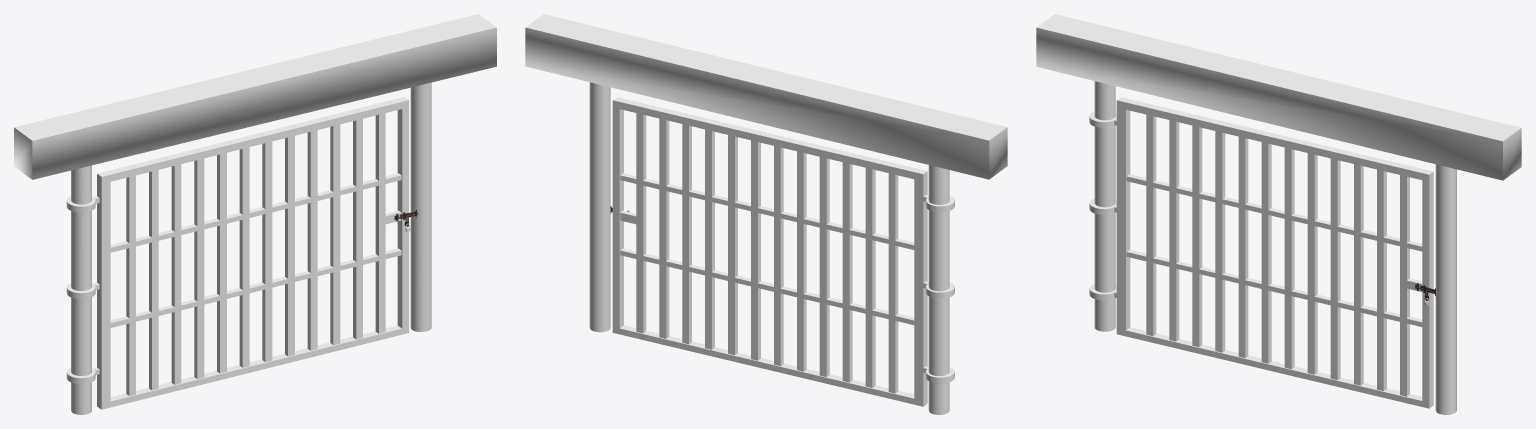
The model's file is REJAS.fbx.
3 views of the same model, side by side, from view 1: azimuth 30°, elevation 25°; view 2: azimuth 150°, elevation 25°; view 3: azimuth 330°, elevation 25° (orthographic).
Visible parts, largest first — view 1: REJASINUVSS, MARCOSINUVSSS; view 2: REJASINUVSS, MARCOSINUVSSS; view 3: REJASINUVSS, MARCOSINUVSSS.
Boxes of the visible parts, <box> form: REJASINUVSS: <box>66,97,408,409</box>; MARCOSINUVSSS: <box>14,14,496,414</box>; REJASINUVSS: <box>612,97,954,406</box>; MARCOSINUVSSS: <box>525,14,1007,414</box>; REJASINUVSS: <box>1089,97,1433,408</box>; MARCOSINUVSSS: <box>1036,14,1521,414</box>.
Bounding box in the file's own units: 407 × 244 × 28.
